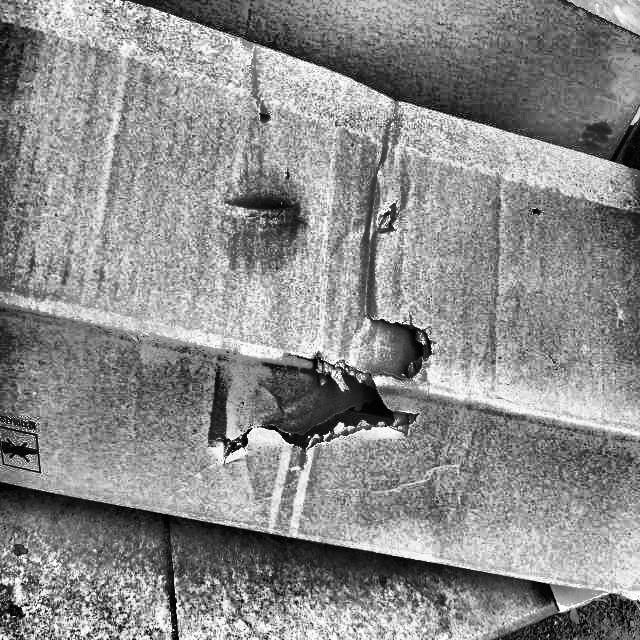box: (0, 0, 639, 607)
hole: (245, 289, 434, 458)
